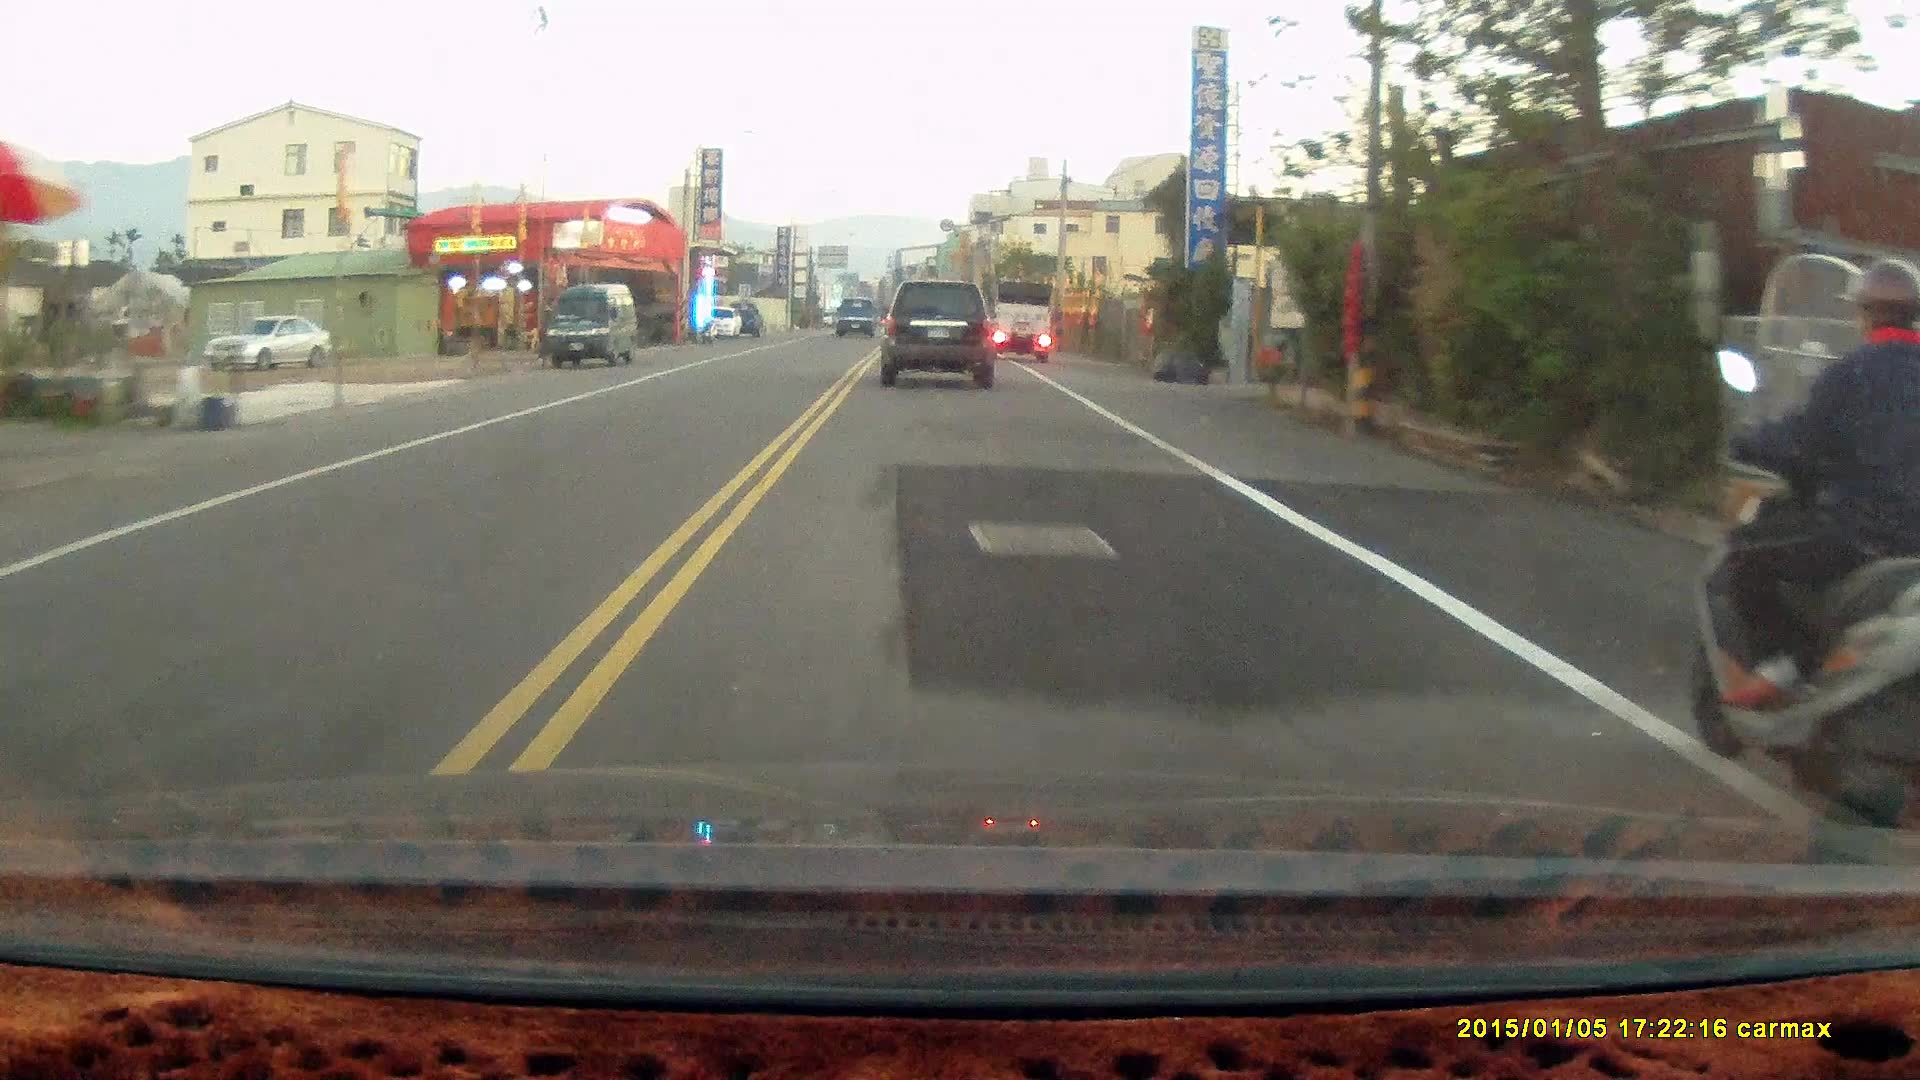rider: (1690, 247, 1919, 837)
vehicle: (877, 275, 1003, 387), (547, 283, 638, 370), (201, 316, 333, 371), (986, 277, 1057, 364)
